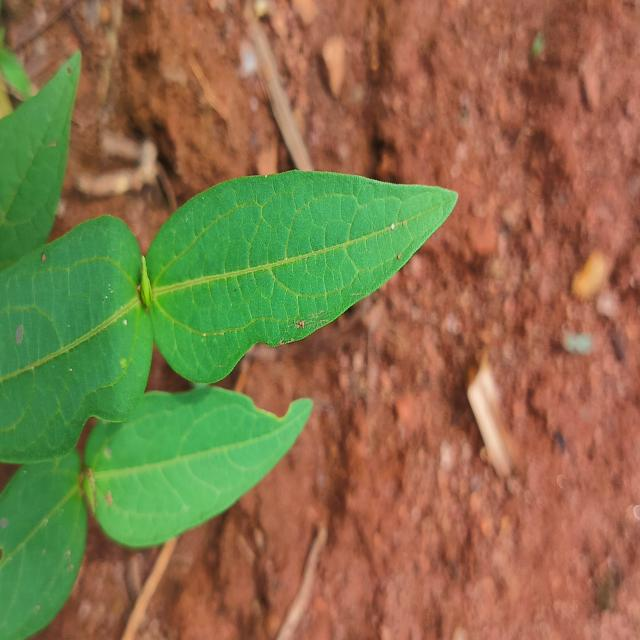Black gram_healthy: (147, 169, 457, 386), (0, 215, 152, 462), (87, 396, 313, 540), (1, 46, 82, 276), (1, 451, 90, 640)
